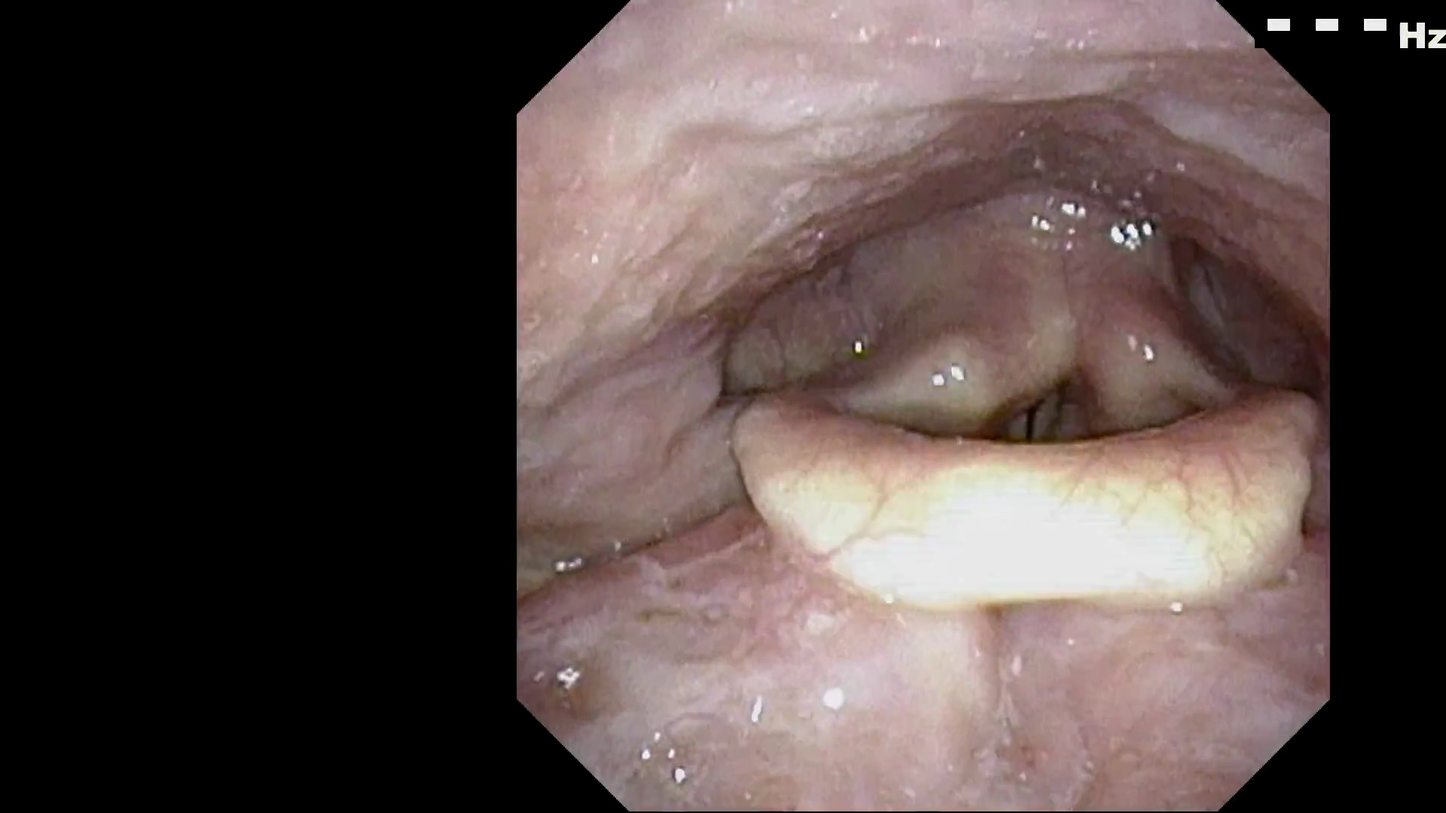epiglottis: (718, 361, 1317, 620)
trachea: (989, 360, 1084, 479)
